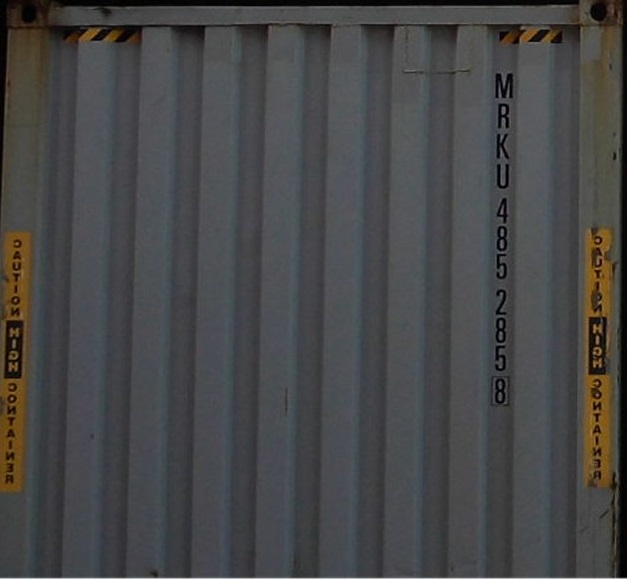container_no_door: (8, 3, 618, 570)
